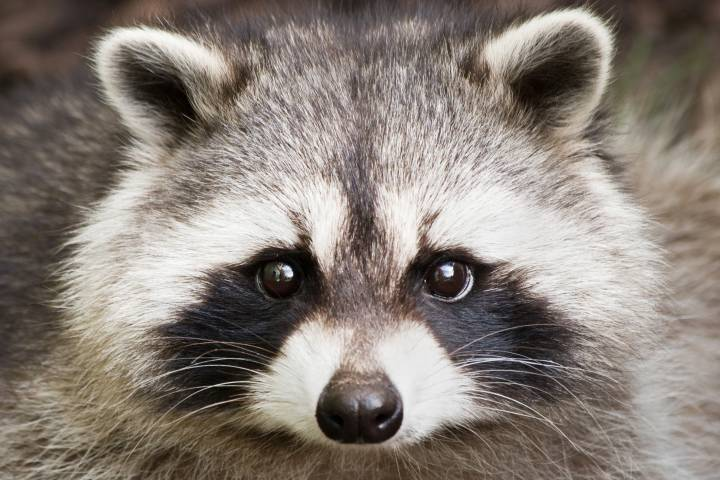raccoon: (9, 1, 668, 480)
